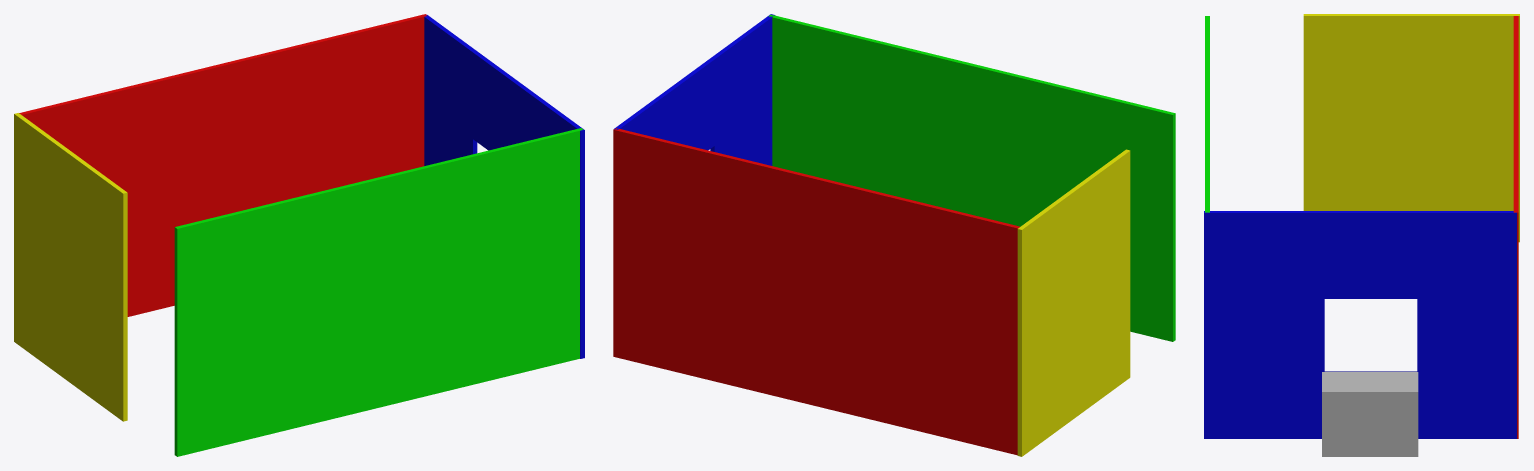
File: Bedroom.fbx
3 views of the same model, side by side, from view 1: azimuth 30°, elevation 25°; view 2: azimuth 150°, elevation 25°; view 3: azimuth 270°, elevation 25° (orthographic).
Parts seen in each view (by area): view 1: Green, Red, Yellow, Blue; view 2: Red, Green, Yellow, Blue; view 3: Blue, Yellow, White, Red, Green.
Part boxes in pixels (x1,y1,x2,y2): Green: (174, 128, 583, 456); Red: (19, 14, 427, 316); Yellow: (14, 113, 127, 421); Blue: (424, 15, 584, 358); Red: (613, 128, 1019, 455); Green: (769, 14, 1175, 341); Yellow: (1017, 149, 1130, 456); Blue: (613, 14, 775, 165); Blue: (1204, 211, 1516, 438); Yellow: (1303, 14, 1519, 242); White: (1322, 371, 1418, 456); Red: (1513, 16, 1518, 438); Green: (1205, 16, 1209, 212).
Bounding box in the file's own units: 202 × 97.18 × 123.
